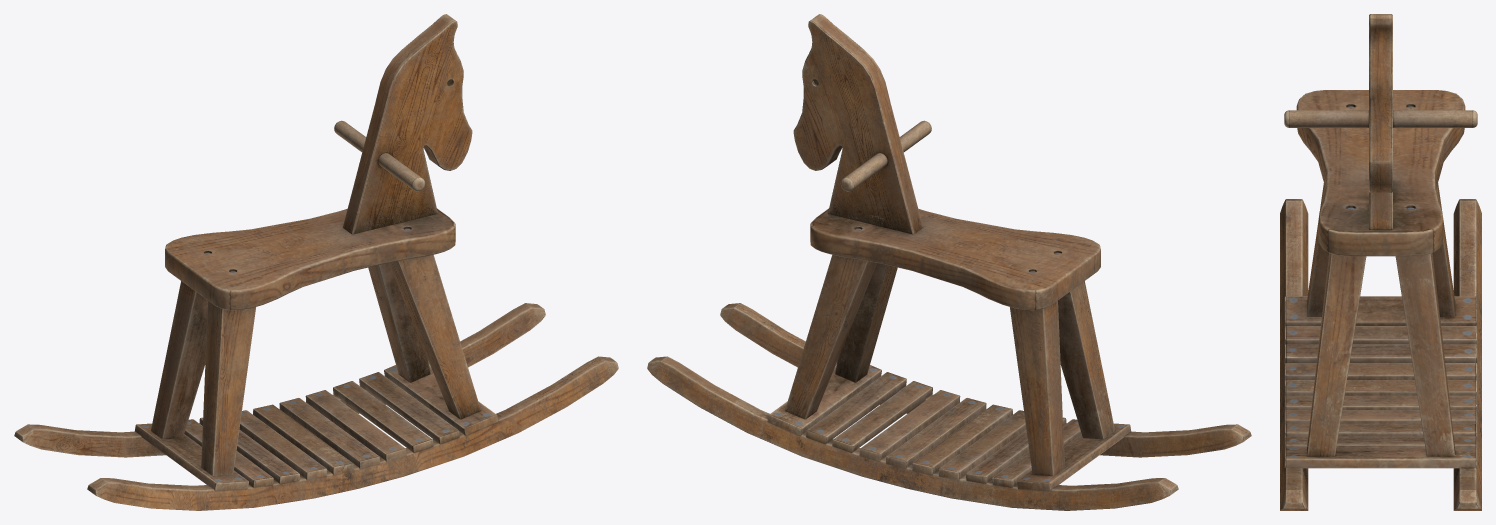
File: wooden horse.fbx
The picture shows the model from 3 angles, left to right: view 1: azimuth 30°, elevation 25°; view 2: azimuth 150°, elevation 25°; view 3: azimuth 270°, elevation 25°; orthographic projection. The views are drawn at different scales.
Parts seen in each view (by area): view 1: Latten; view 2: Latten; view 3: Latten.
Boxes of the visible parts, <box> form: Latten: <box>14,14,618,510</box>; Latten: <box>647,14,1251,510</box>; Latten: <box>1280,14,1481,510</box>.
Bounding box in the file's own units: 600 × 447 × 168.
Materials: 1 (1 with a texture image).
